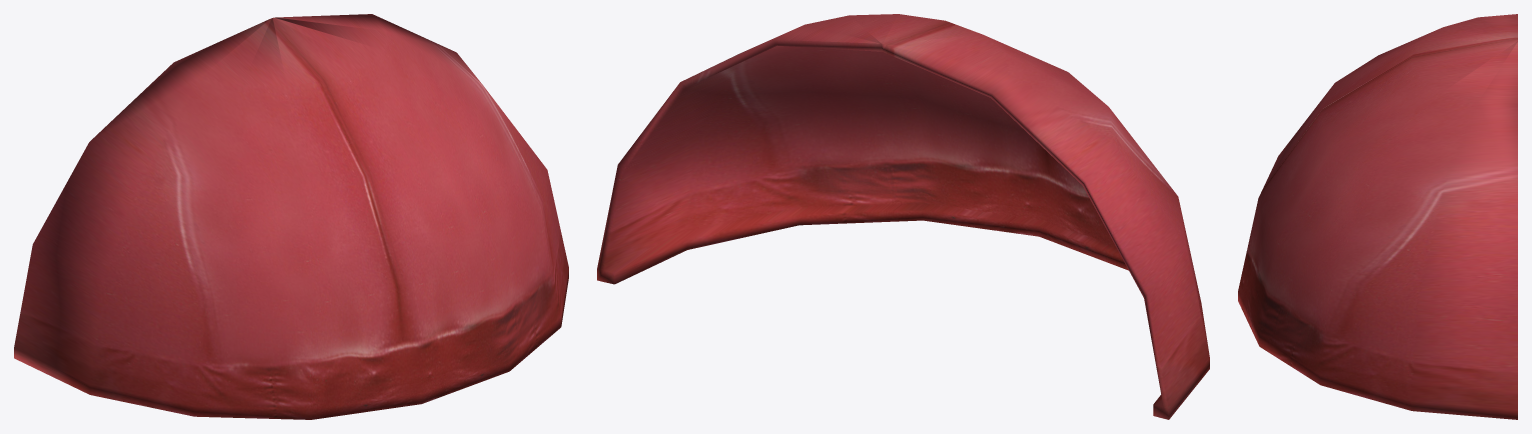
The model's file is awning_round.fbx.
3 views of the same model, side by side, from view 1: azimuth 30°, elevation 25°; view 2: azimuth 150°, elevation 25°; view 3: azimuth 270°, elevation 25° (orthographic). The views are drawn at different scales.
Visible parts, largest first — view 1: Default0; view 2: Default0; view 3: Default0.
Part boxes in pixels (x1,y1,x2,y2): Default0: (14, 14, 568, 419); Default0: (597, 14, 1209, 419); Default0: (1238, 14, 1517, 419).
Size of the model in its own units: 4.15 by 2.12 by 2.07.
